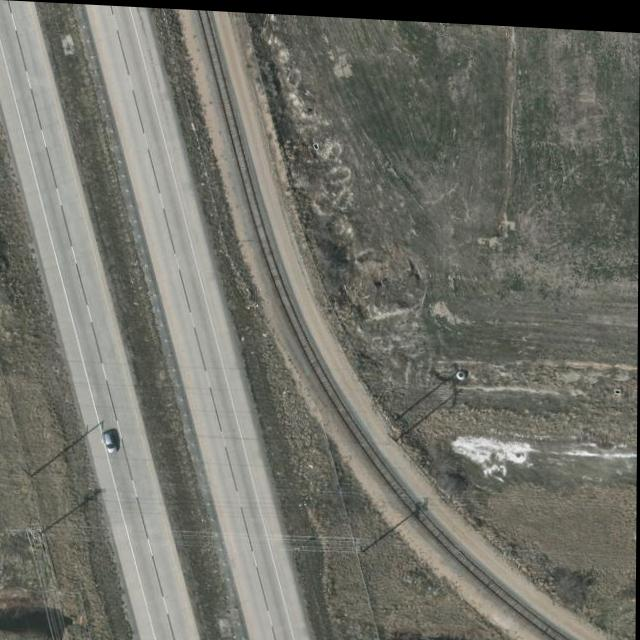vehicle: (103, 429, 118, 455)
